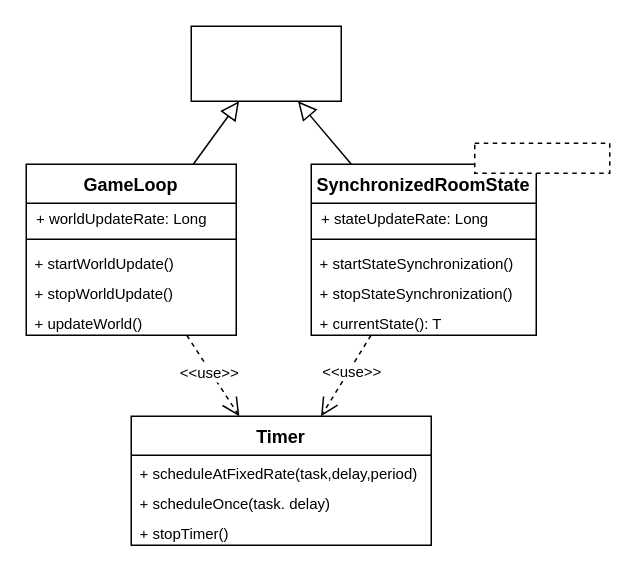
The diagram is 636 pixels wide and 576 high, and some of its shapes have lost their labels. Here are the shapes that lost their labels. From the top down, the centre of each, then its label:
(265,63): ServerRoom
(541,157): T: Serializable
